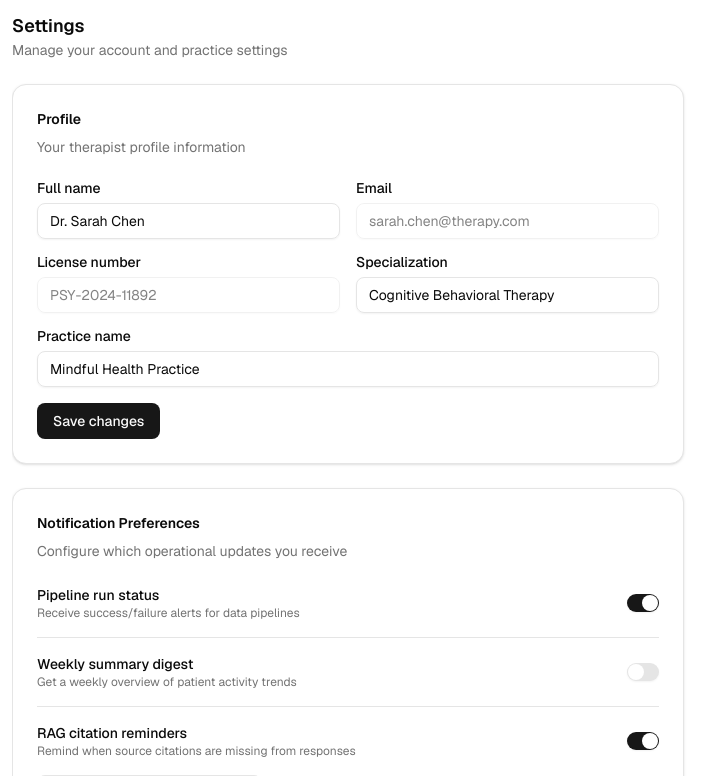
Test: Dashboard settings page › shows error message on profile save failure
Click the button "Save changes".
click(99, 421)  # box [37,403,160,439]
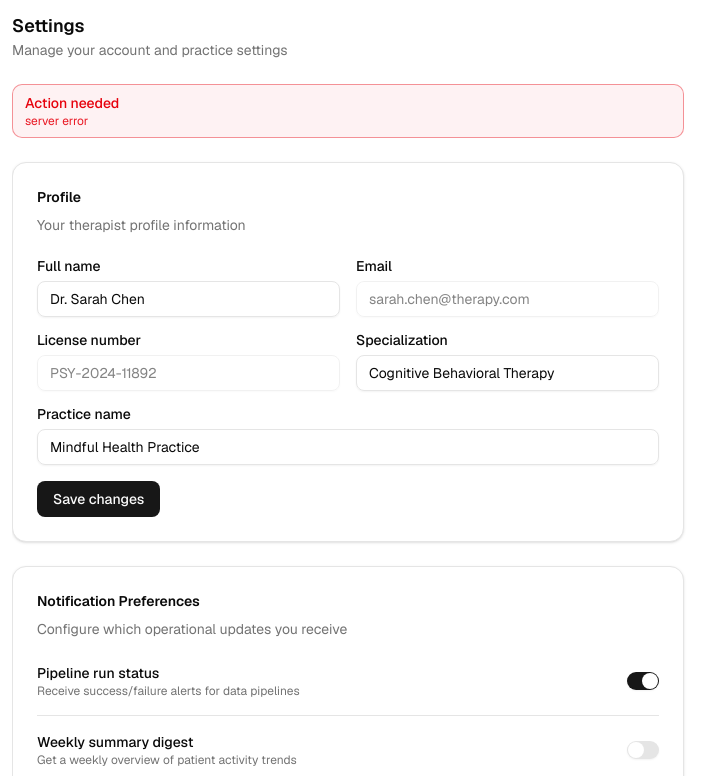
Now the text "server error" is shown, box [25,113,88,129]
